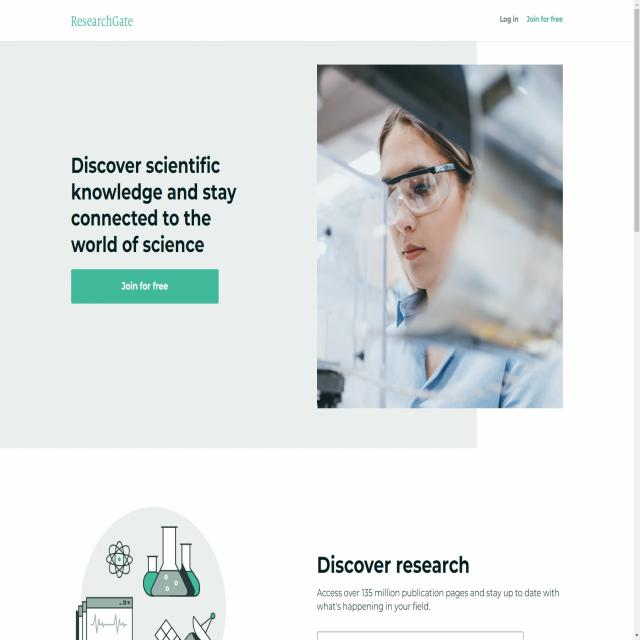menu-bar: (493, 8, 565, 32)
